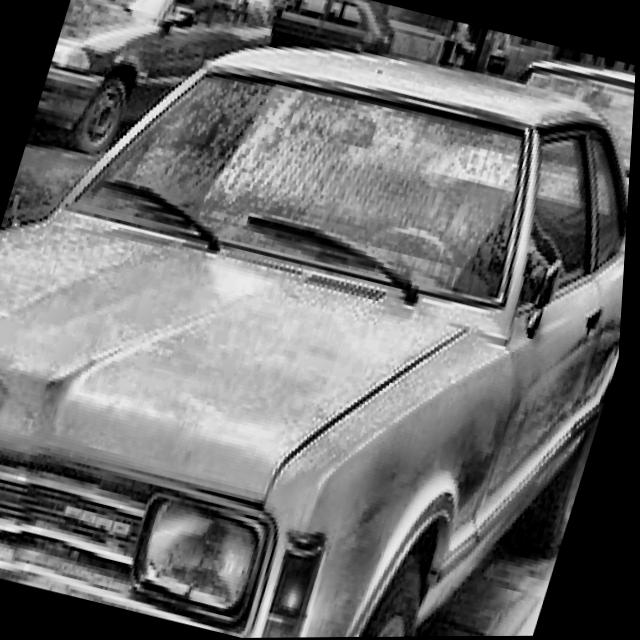light_vehicle: (0, 0, 640, 640), (415, 23, 639, 253), (27, 0, 283, 186), (252, 0, 407, 70)
